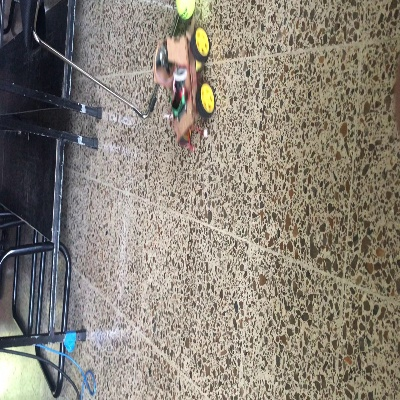Ball: (176, 0, 195, 20)
Robot: (153, 24, 215, 146)
